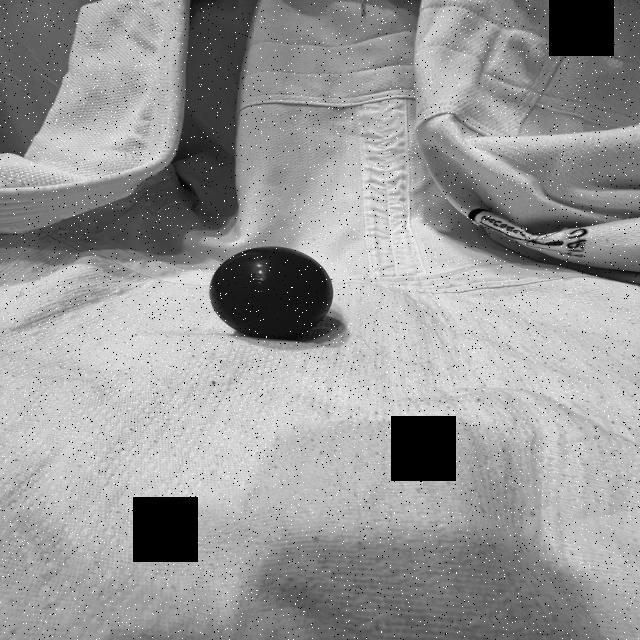ball: (207, 243, 334, 341)
